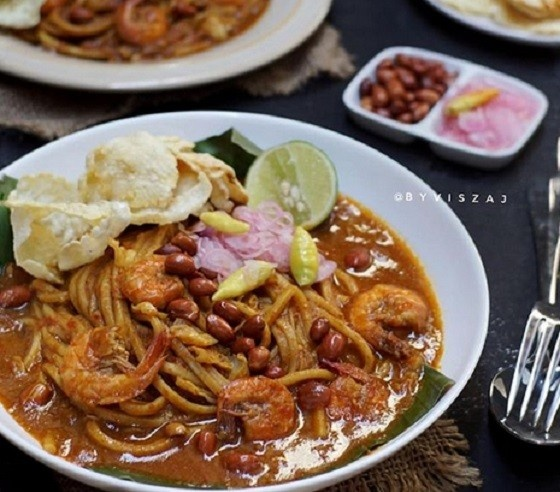mie_aceh: (3, 206, 440, 489)
